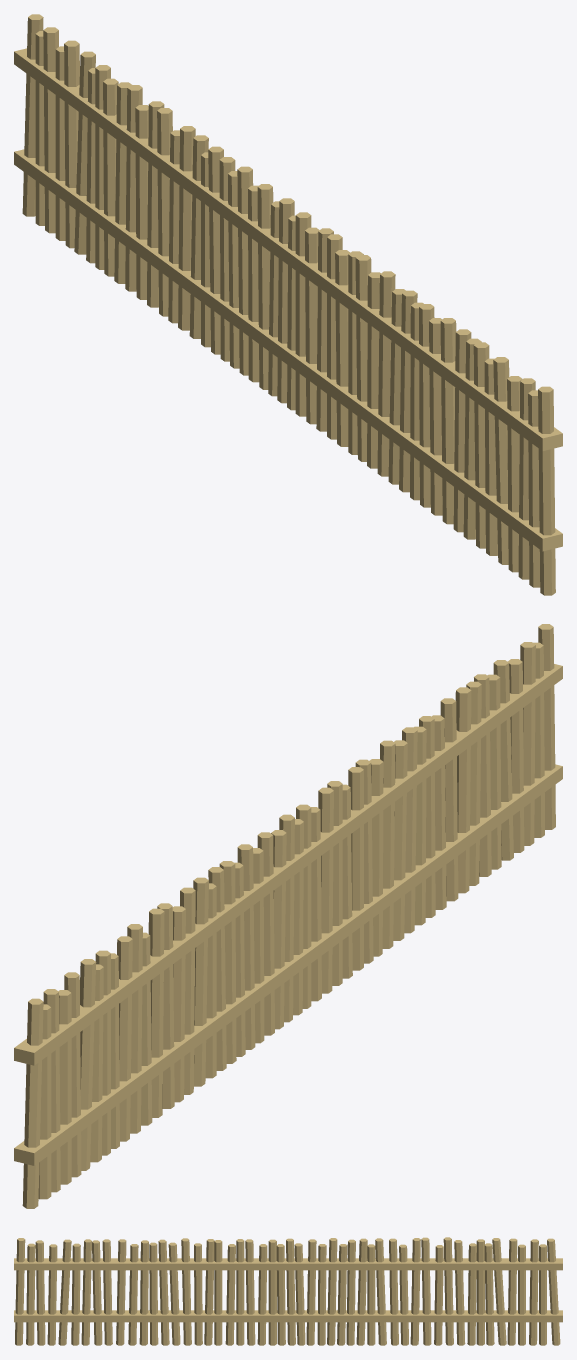
Rendered from Fence long.fbx.
3 views of the same model, one above another, from view 1: azimuth 30°, elevation 25°; view 2: azimuth 150°, elevation 25°; view 3: azimuth 270°, elevation 25° (orthographic). The views are drawn at different scales.
Parts seen in each view (by area): view 1: Fence Long; view 2: Fence Long; view 3: Fence Long.
Part boxes in pixels (x1=…): Fence Long: x1=14, y1=14, x2=562, y2=595; Fence Long: x1=14, y1=624, x2=562, y2=1208; Fence Long: x1=14, y1=1237, x2=562, y2=1345.
Size of the model in its own units: 11.95 by 114 by 539.
